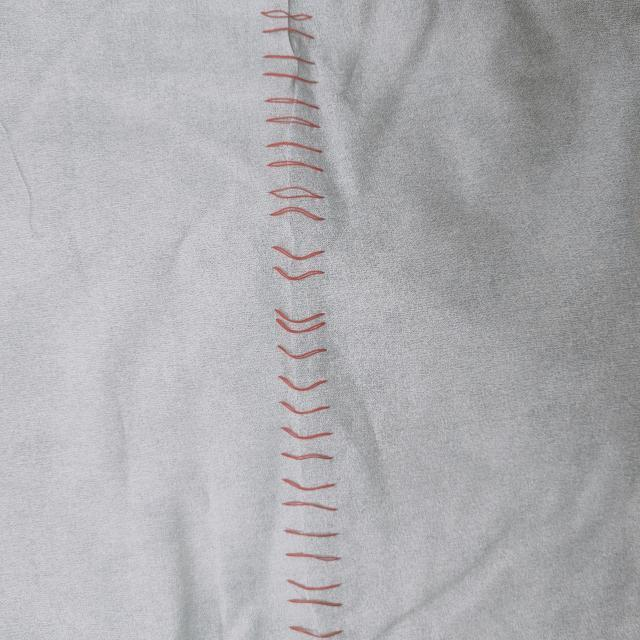Stitch: (180, 1, 466, 640)
